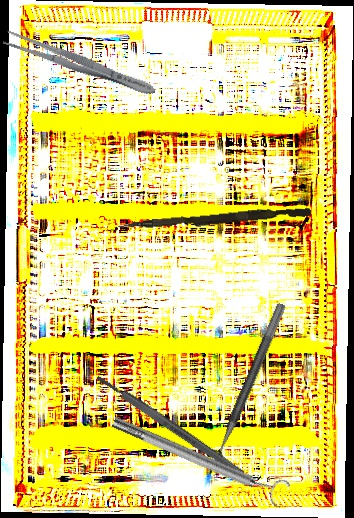Dressing Forceps: (1, 27, 159, 101)
Fixation Ring: (107, 406, 292, 511), (194, 296, 288, 471)
Pusher: (117, 202, 312, 237)
Scalpel Handle: (94, 372, 246, 479)
